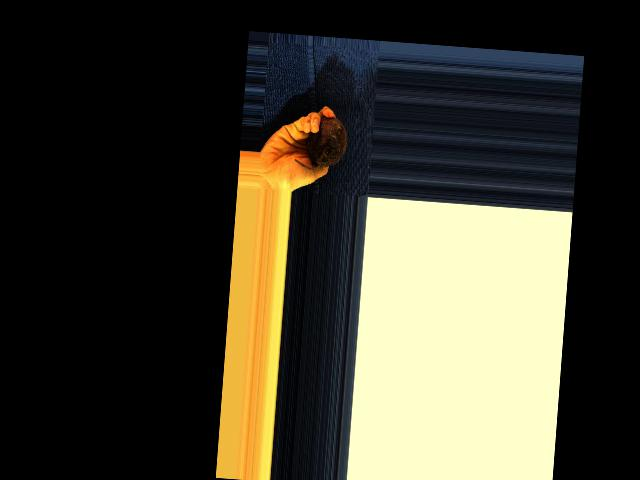beet: (293, 114, 348, 172)
